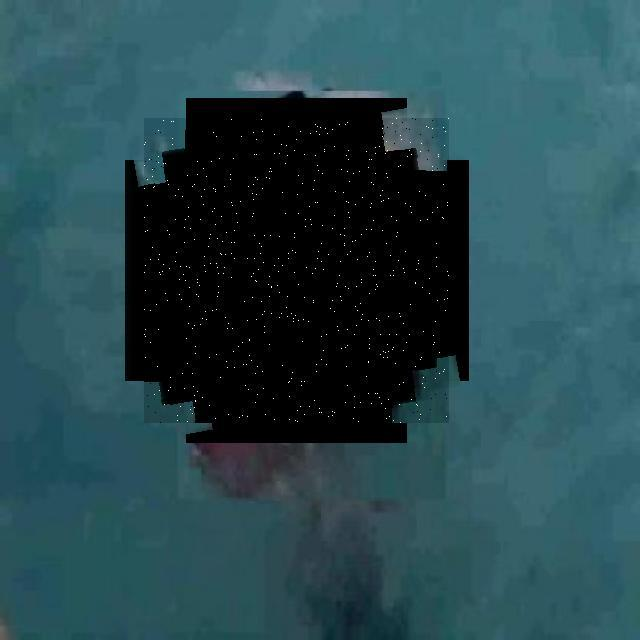Out of Water: (144, 118, 449, 423)
